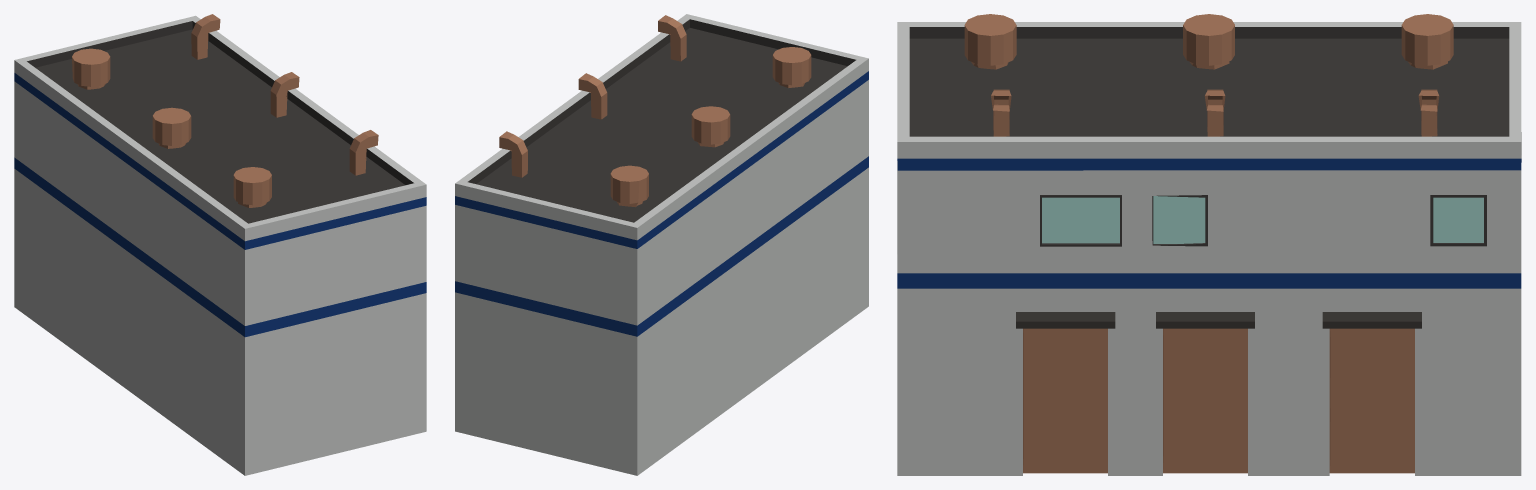
Rendered from SM_Factory_Administration_01.glb.
3 renders of one model, left to right at view 1: azimuth 30°, elevation 25°; view 2: azimuth 150°, elevation 25°; view 3: azimuth 270°, elevation 25°, orthographic. The views are drawn at different scales.
Parts seen in each view (by area): view 1: SM_Factory_Administration_01; view 2: SM_Factory_Administration_01; view 3: SM_Factory_Administration_01.
Boxes of the visible parts, box(x1,y1,x2,y2) form: SM_Factory_Administration_01: box(14, 14, 426, 475); SM_Factory_Administration_01: box(455, 14, 868, 475); SM_Factory_Administration_01: box(897, 14, 1521, 475).
Size of the model in its own units: 5.41 by 7.22 by 11.
1 material, 1 textured.
